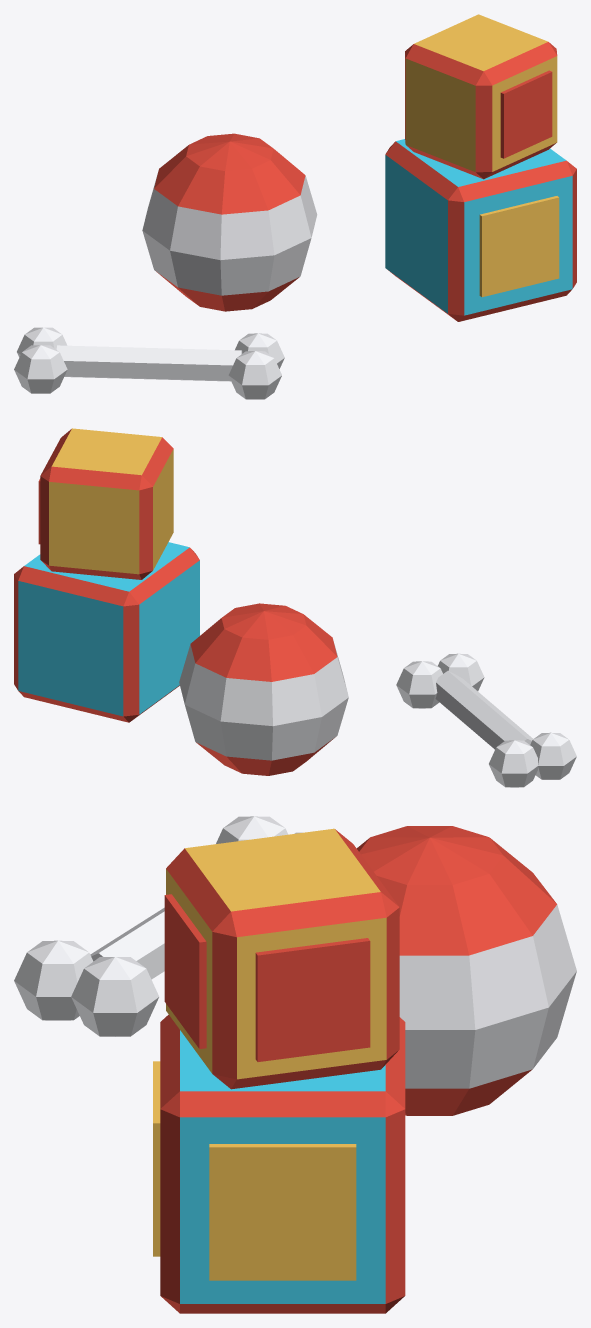
File: toys.glb
3 views of the same model, one above another, from view 1: azimuth 30°, elevation 25°; view 2: azimuth 150°, elevation 25°; view 3: azimuth 270°, elevation 25° (orthographic). The views are drawn at different scales.
Visible parts, largest first — view 1: toys-m; view 2: toys-m; view 3: toys-m.
Part boxes in pixels (<box>): toys-m: <box>14,14,576,399</box>; toys-m: <box>14,428,576,787</box>; toys-m: <box>14,816,576,1313</box>.
Size of the model in its own units: 2.08 by 0.9 by 1.15.
